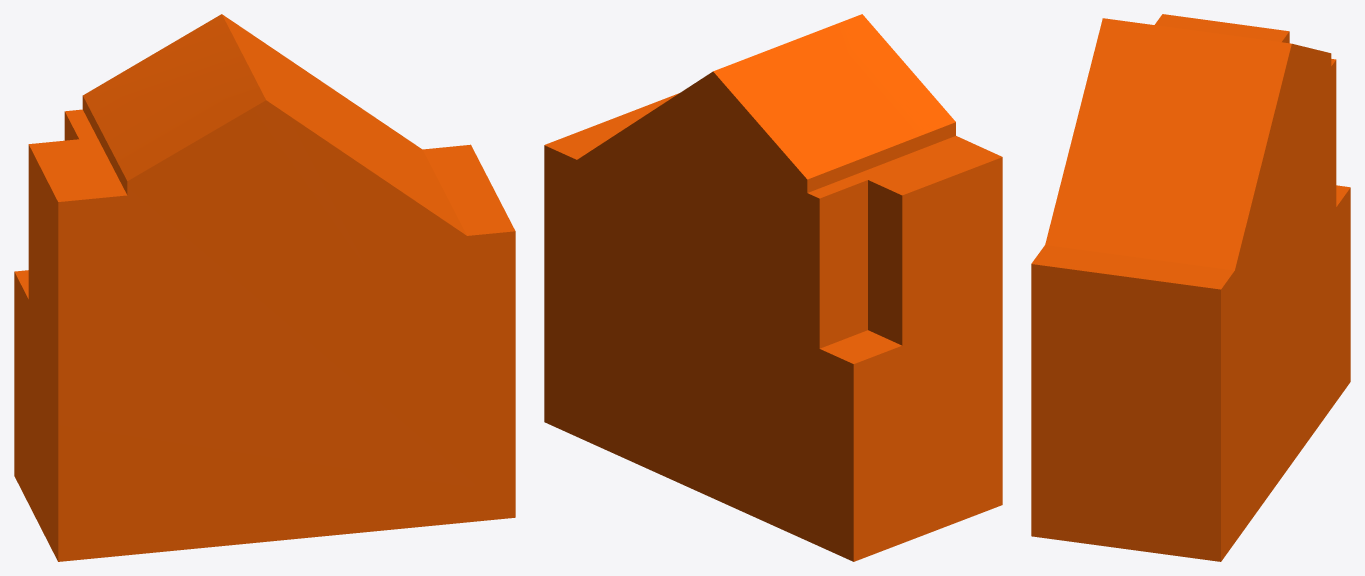
The model's file is DEHB01ALn0001O9i.dae.
3 renders of one model, left to right at view 1: azimuth 30°, elevation 25°; view 2: azimuth 150°, elevation 25°; view 3: azimuth 270°, elevation 25°, orthographic. The views are drawn at different scales.
Bounding box in the file's own units: 16.45 × 10.79 × 15.65.
